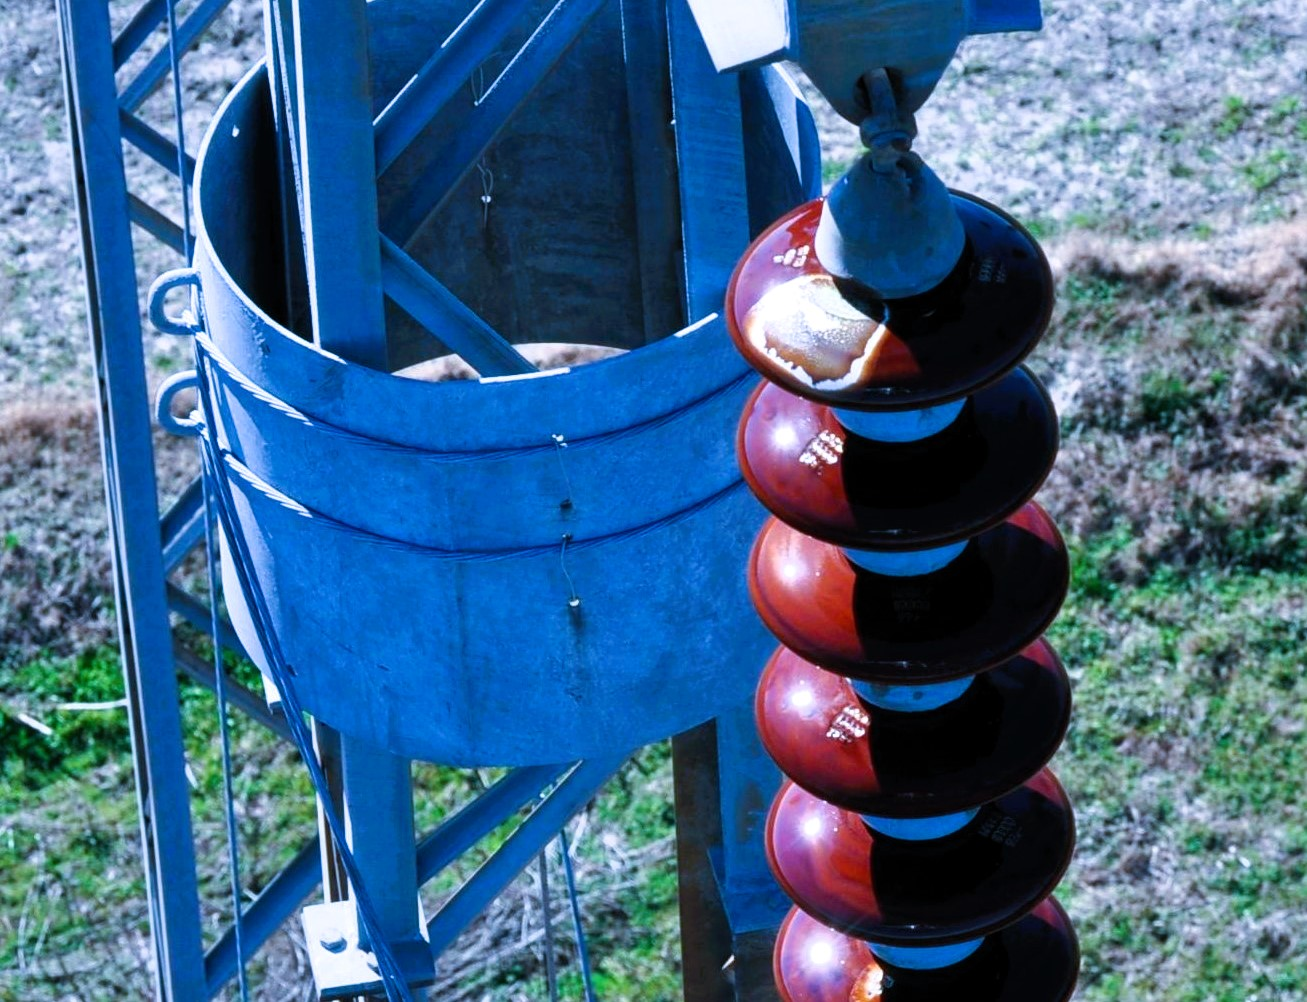Insulator flashover: (722, 183, 1054, 407)
